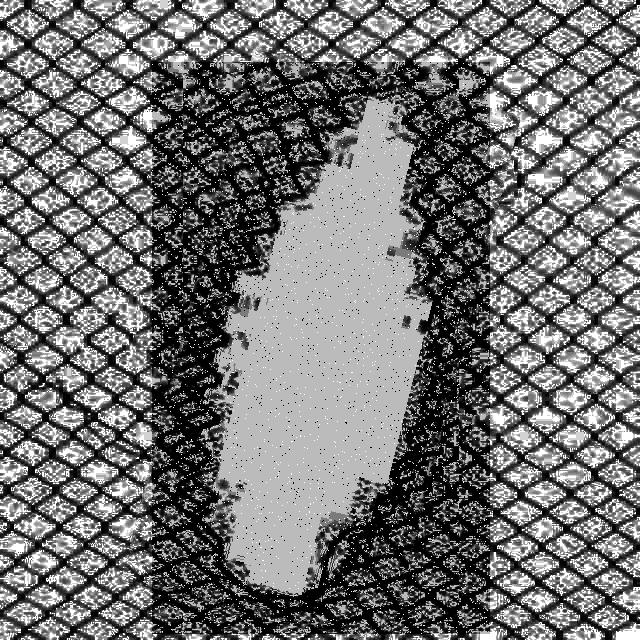anomaly-fence: (152, 62, 490, 634)
